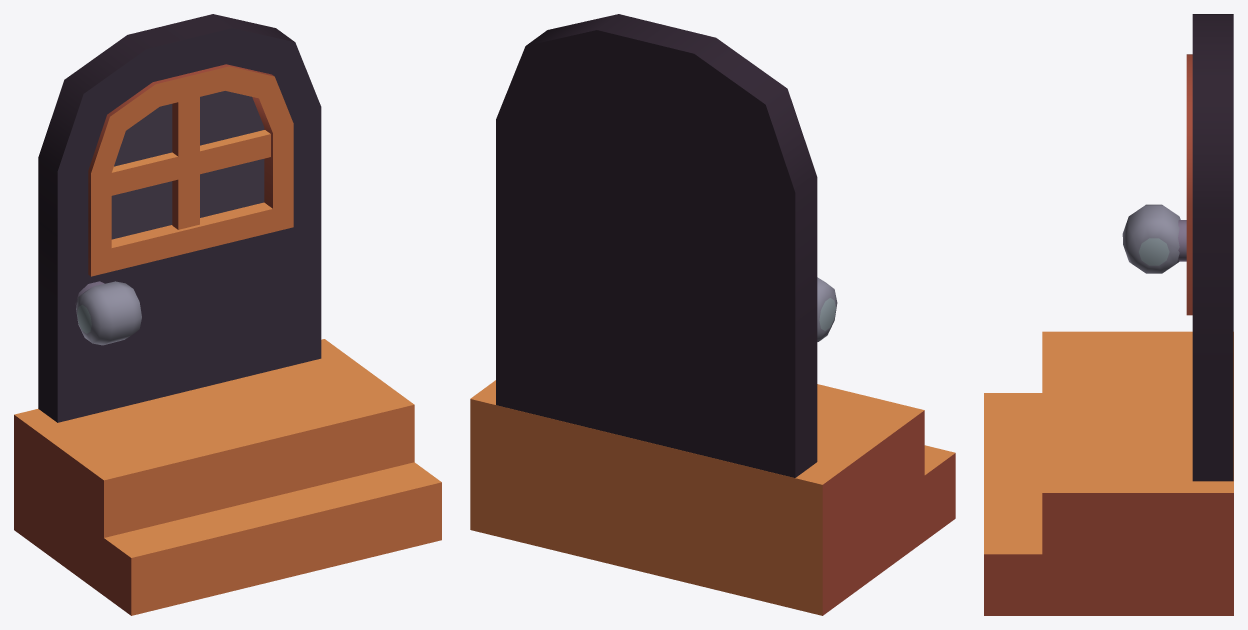
File: Door01_Black_Wood.glb
The picture shows the model from 3 angles, left to right: view 1: azimuth 30°, elevation 25°; view 2: azimuth 150°, elevation 25°; view 3: azimuth 270°, elevation 25°; orthographic projection. The views are drawn at different scales.
Visible parts, largest first — view 1: Door01_Black_Wood; view 2: Door01_Black_Wood; view 3: Door01_Black_Wood.
Boxes of the visible parts, x1,y1,x2,y2 form: Door01_Black_Wood: (14, 14, 441, 615); Door01_Black_Wood: (470, 14, 955, 615); Door01_Black_Wood: (984, 14, 1233, 615).
Bounding box in the file's own units: 0.9795 × 1.41 × 0.6407.
Materials: 1 (1 with a texture image).
